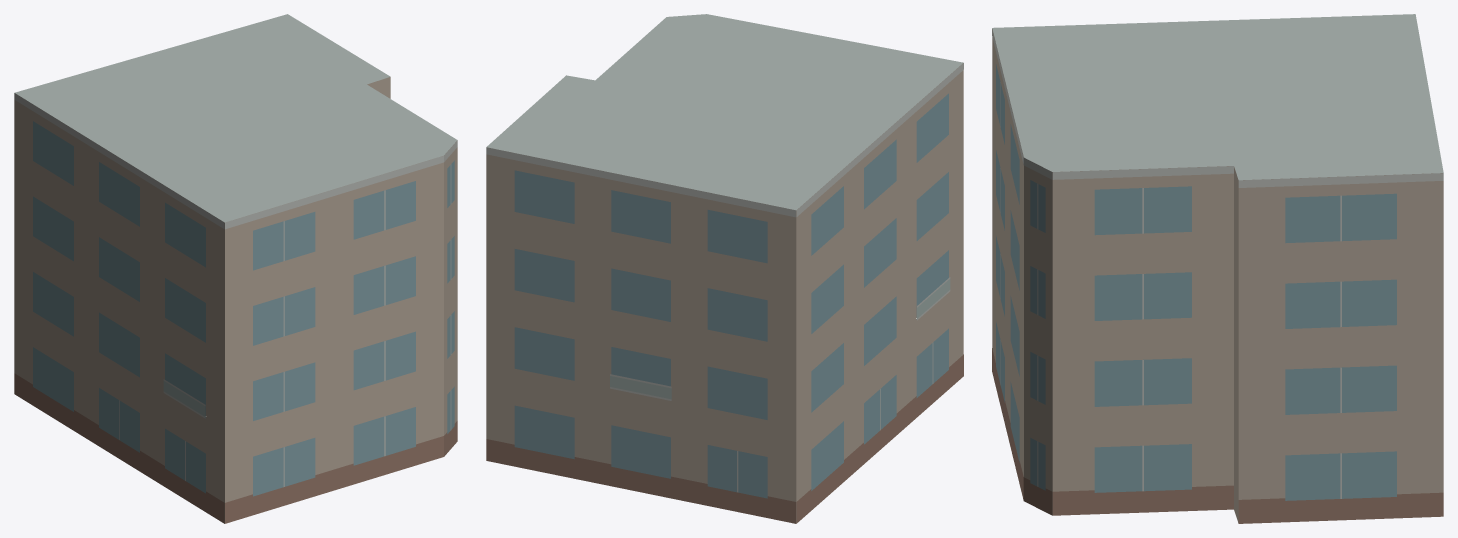
File: survey-upis-32705514.glb
3 renders of one model, left to right at view 1: azimuth 30°, elevation 25°; view 2: azimuth 150°, elevation 25°; view 3: azimuth 270°, elevation 25°, orthographic. The views are drawn at different scales.
Parts seen in each view (by area): view 1: survey-upis-32705514.tmp; view 2: survey-upis-32705514.tmp; view 3: survey-upis-32705514.tmp.
Boxes of the visible parts, left/top/right/bottom form: survey-upis-32705514.tmp: left=14, top=14, right=457, bottom=523; survey-upis-32705514.tmp: left=486, top=14, right=963, bottom=523; survey-upis-32705514.tmp: left=992, top=14, right=1443, bottom=523.
Bounding box in the file's own units: 11.11 × 10.7 × 12.75.
